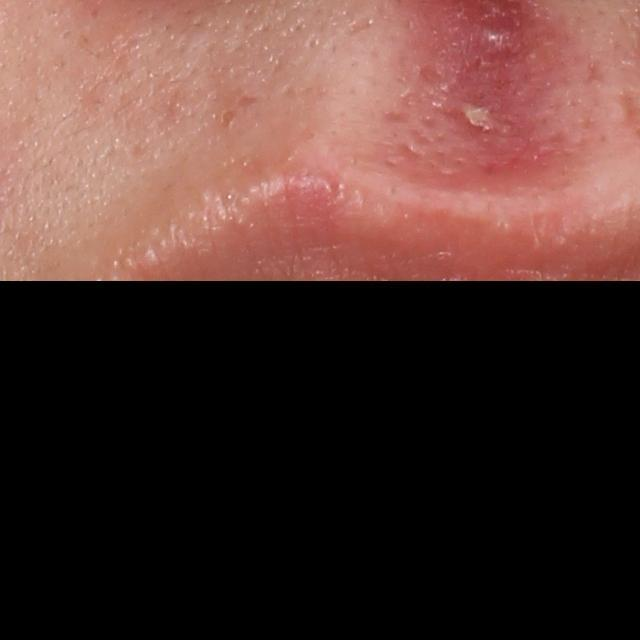atrophic_scar: (418, 59, 448, 88), (235, 92, 263, 115), (221, 108, 239, 129)
pustule: (453, 98, 500, 131)
